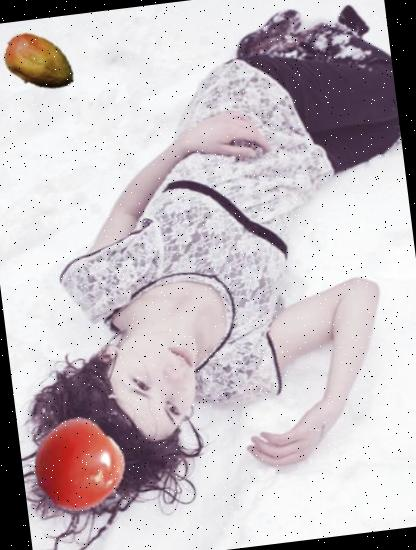Papaya: (0, 21, 81, 106)
Tomato: (28, 415, 130, 516)
